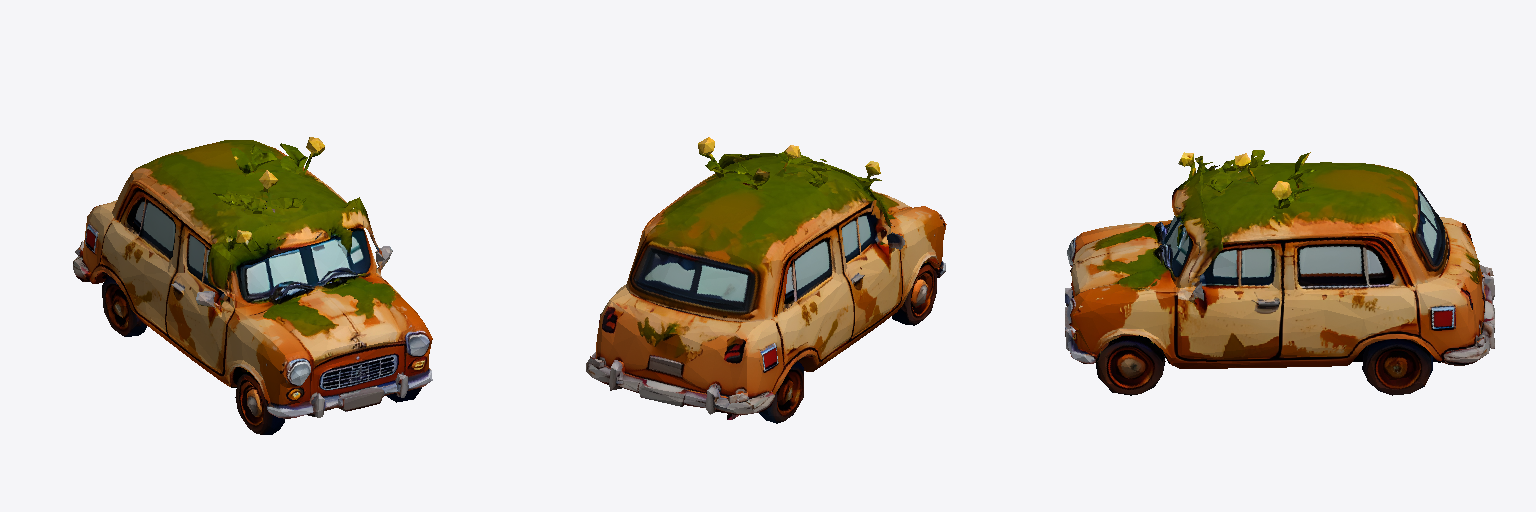
3 renders of one model, left to right at view 1: azimuth 30°, elevation 25°; view 2: azimuth 150°, elevation 25°; view 3: azimuth 270°, elevation 25°, orthographic.
Parts seen in each view (by area): view 1: 2_1234_30_5.0_256_8000; view 2: 2_1234_30_5.0_256_8000; view 3: 2_1234_30_5.0_256_8000.
Boxes of the visible parts, x1,y1,x2,y2 form: 2_1234_30_5.0_256_8000: [73, 137, 432, 434]; 2_1234_30_5.0_256_8000: [586, 137, 946, 423]; 2_1234_30_5.0_256_8000: [1065, 150, 1494, 395].
Size of the model in its own units: 1.06 by 1.06 by 1.99.
1 materials, 1 textured.